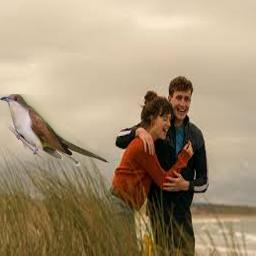Cuckoo: (0, 94, 109, 166)
